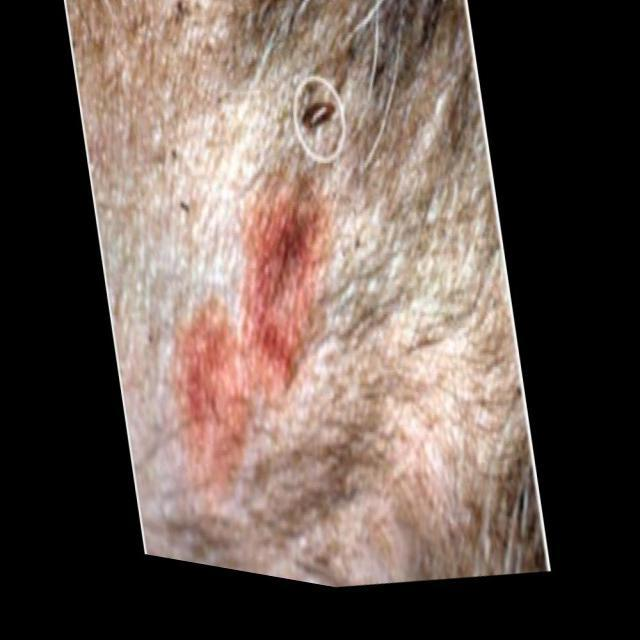allergic dermatitis: (164, 162, 333, 493)
